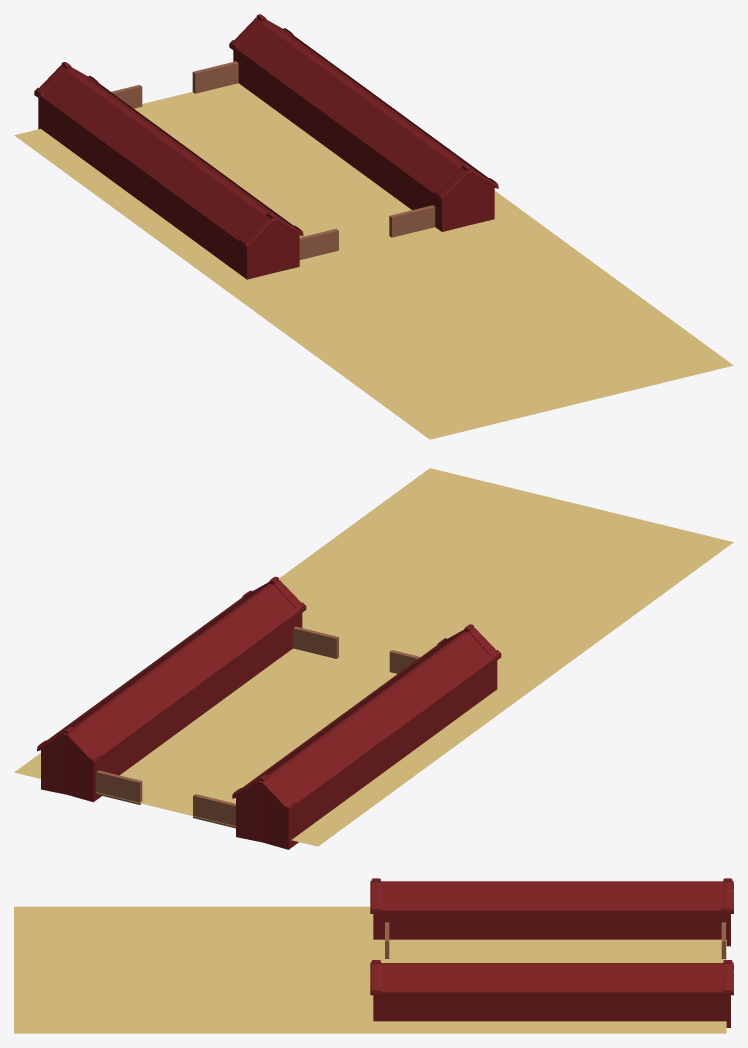
File: SusakuStage4.fbx
3 views of the same model, one above another, from view 1: azimuth 30°, elevation 25°; view 2: azimuth 150°, elevation 25°; view 3: azimuth 270°, elevation 25° (orthographic). The views are drawn at different scales.
Visible parts, largest first — view 1: Plane.001, Cube.009, Cube.010, Cube.011; view 2: Plane.001, Cube.009, Cube.011, Cube.010; view 3: Plane.001, Cube.009.
Boxes of the visible parts, x1,y1,x2,y2 form: Plane.001: [14, 83, 733, 439]; Cube.009: [34, 14, 498, 279]; Cube.010: [299, 205, 435, 259]; Cube.011: [111, 61, 238, 108]; Plane.001: [14, 468, 733, 846]; Cube.009: [37, 576, 501, 849]; Cube.011: [96, 770, 235, 828]; Cube.010: [293, 626, 420, 673]; Plane.001: [14, 906, 726, 1033]; Cube.009: [370, 878, 733, 1027].
Size of the model in its own units: 79.67 by 16.51 by 191.
